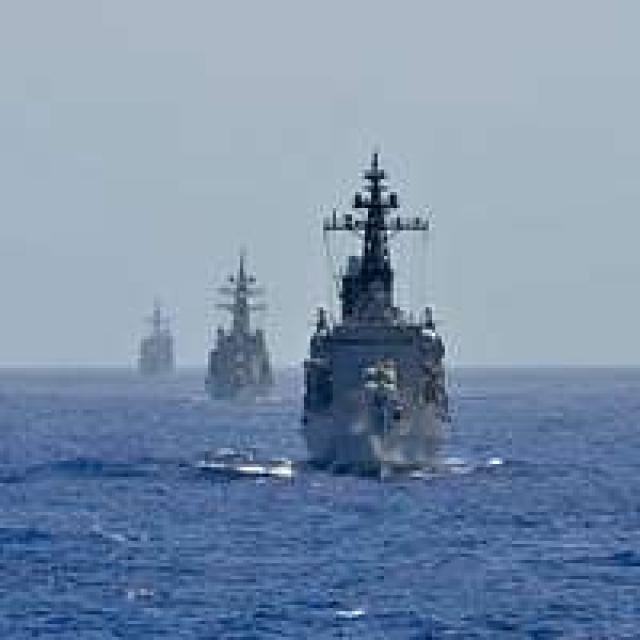navalvessels: (280, 163, 479, 463), (184, 241, 271, 413), (130, 295, 172, 383)
